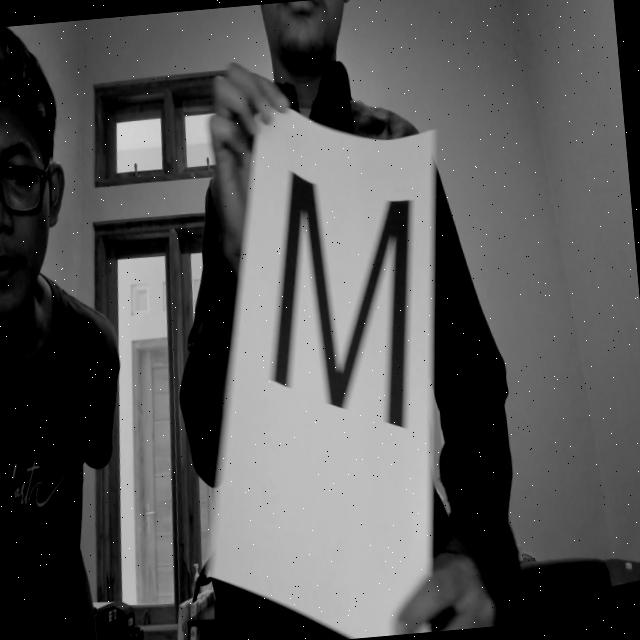m: (247, 157, 442, 439)
